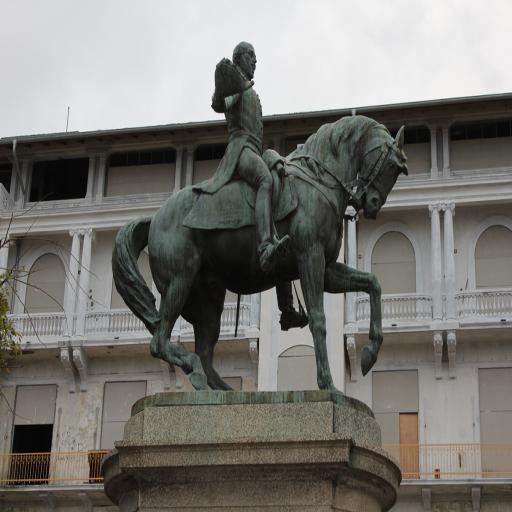Horse: (111, 113, 407, 392)
